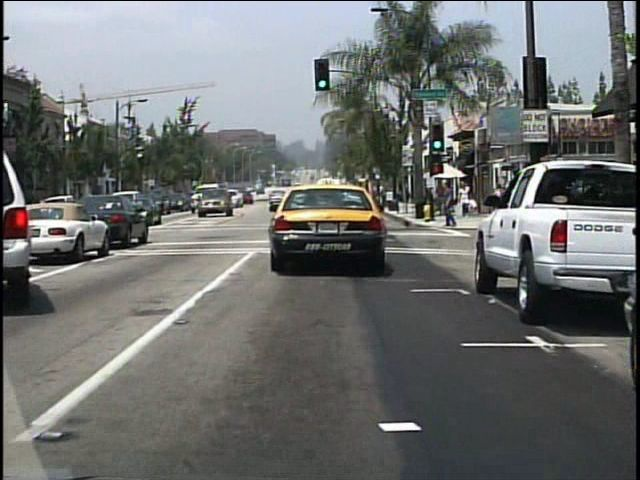person: (442, 182, 457, 230), (459, 181, 473, 218), (435, 182, 448, 218)
